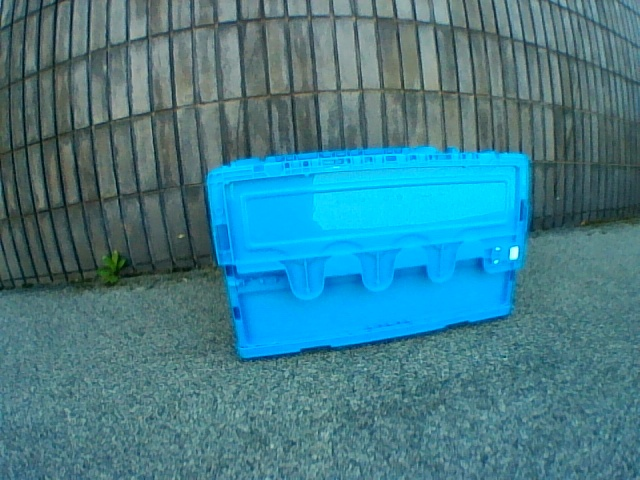blue_box: (206, 146, 528, 361)
